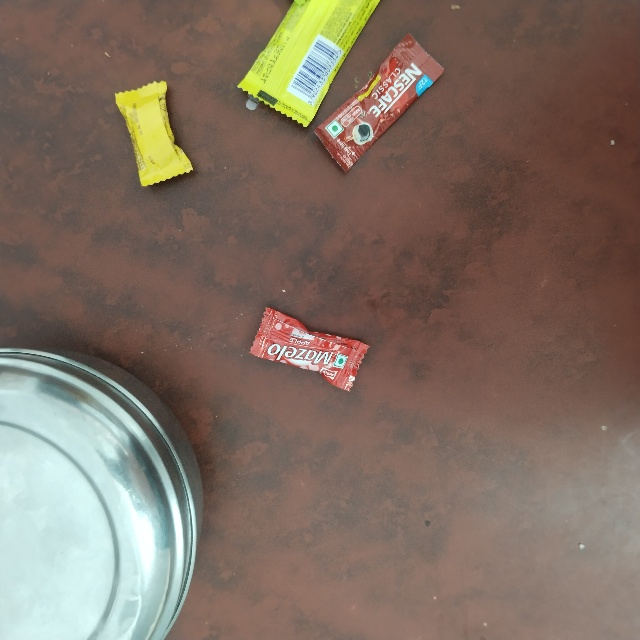Alpenlibe Creamfills: (109, 93, 169, 198)
Mazelo: (268, 297, 388, 357)
Nescafe Coffee: (313, 137, 455, 186)
Orbit: (293, 0, 374, 104)
